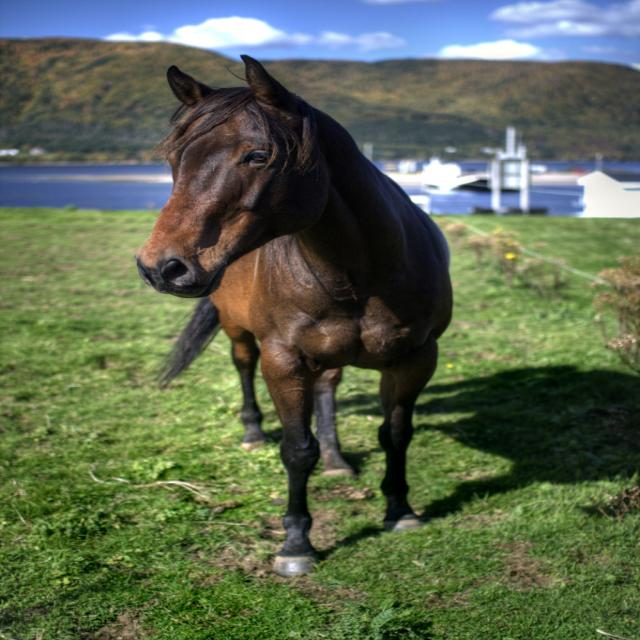Horse: (130, 52, 458, 576)
